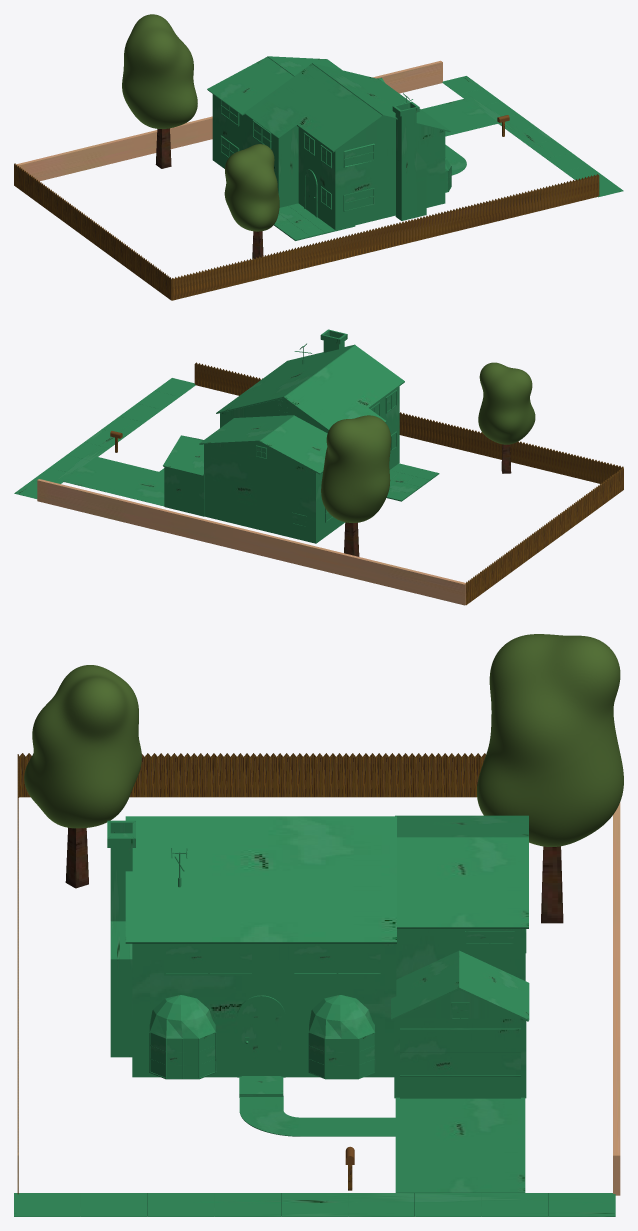
Rendered from simpsons.obj.
The picture shows the model from 3 angles, top to bottom: view 1: azimuth 30°, elevation 25°; view 2: azimuth 150°, elevation 25°; view 3: azimuth 270°, elevation 25°; orthographic projection. The views are drawn at different scales.
Visible parts, largest first — view 1: casa_1, fuera arbol Metaball, fuera pared, fuera arbol_1 Metaball1, fuera vereda, fuera arbol tronco; view 2: casa_1, fuera pared, fuera arbol Metaball, fuera arbol_1 Metaball1, fuera vereda, fuera arbol tronco; view 3: casa_1, fuera arbol Metaball, fuera arbol_1 Metaball1, fuera vereda, fuera pared, fuera arbol tronco, fuera arbol_1 tronco1.
Boxes of the visible parts, box(x1,y1,x2,y2) form: casa_1: box(207, 56, 499, 240); fuera arbol Metaball: box(122, 14, 197, 128); fuera pared: box(16, 60, 442, 181); fuera arbol_1 Metaball1: box(224, 144, 279, 231); fuera vereda: box(442, 76, 623, 197); fuera arbol tronco: box(155, 128, 171, 168); casa_1: box(62, 329, 439, 543); fuera pared: box(37, 479, 465, 605); fuera arbol Metaball: box(321, 415, 391, 522); fuera arbol_1 Metaball1: box(478, 362, 535, 444); fuera vereda: box(14, 378, 195, 498); fuera arbol tronco: box(344, 522, 359, 556); casa_1: box(107, 815, 529, 1192); fuera arbol Metaball: box(477, 634, 623, 846); fuera arbol_1 Metaball1: box(24, 665, 141, 828); fuera vereda: box(14, 1193, 615, 1216); fuera pared: box(613, 802, 620, 1195); fuera arbol tronco: box(541, 846, 563, 923); fuera arbol_1 tronco1: box(65, 827, 88, 888).
Bounding box in the file's own units: 4526 × 1402 × 2772.
